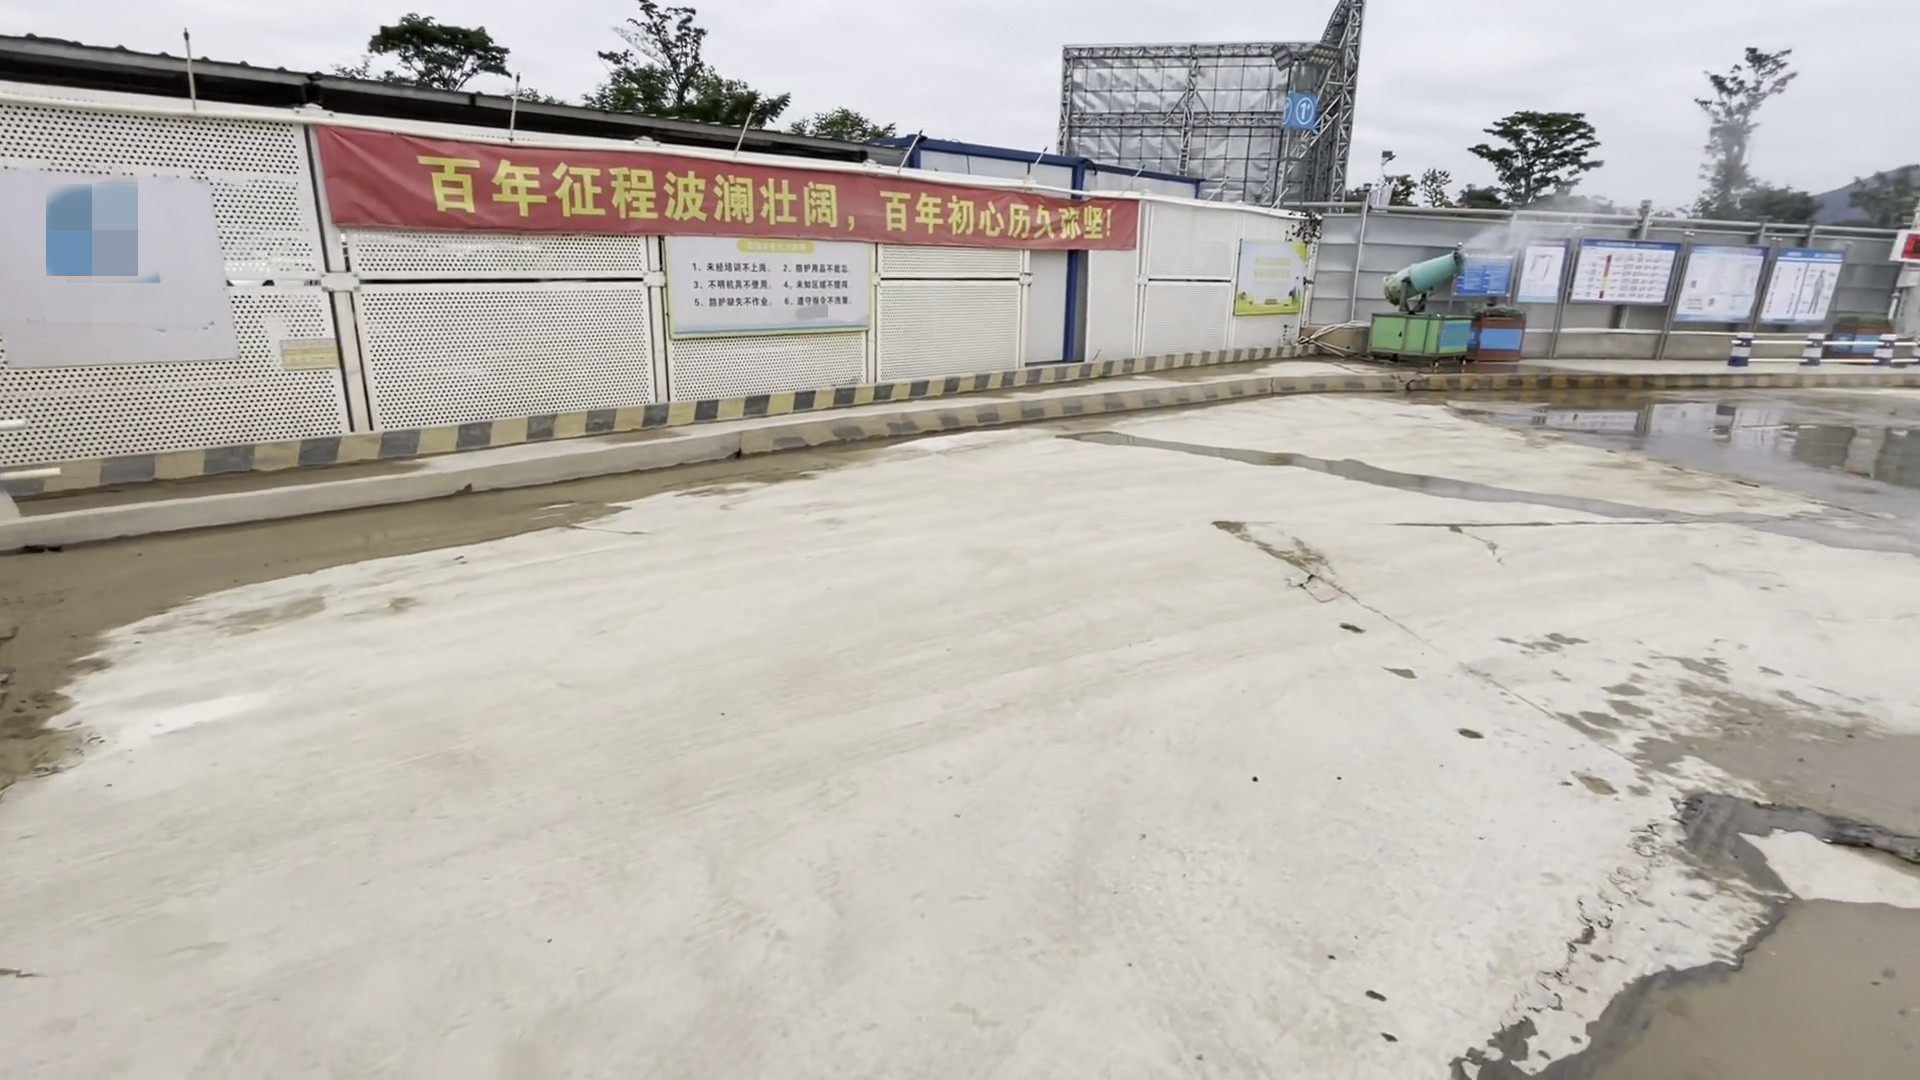slogan: (315, 128, 1121, 255), (658, 237, 873, 320)
